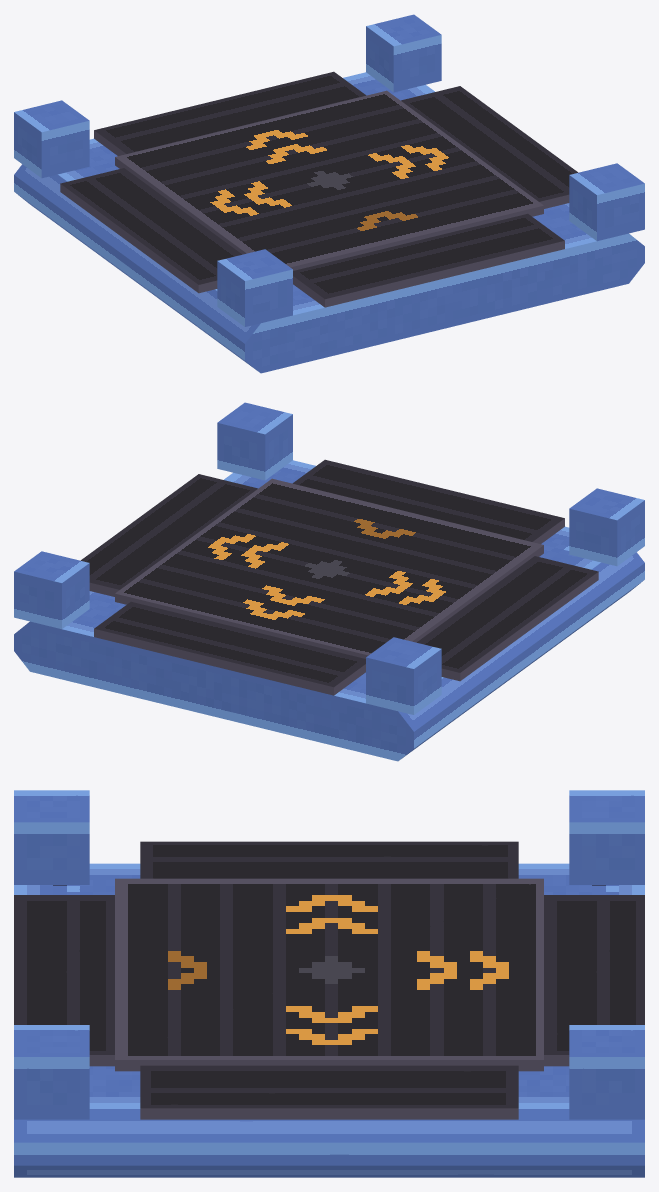
The model's file is belt_split.glb.
3 views of the same model, one above another, from view 1: azimuth 30°, elevation 25°; view 2: azimuth 150°, elevation 25°; view 3: azimuth 270°, elevation 25° (orthographic). The views are drawn at different scales.
Parts seen in each view (by area): view 1: belt_split_body; view 2: belt_split_body; view 3: belt_split_body.
Part boxes in pixels (x1=…): belt_split_body: x1=14, y1=14, x2=644, y2=373; belt_split_body: x1=14, y1=402, x2=644, y2=761; belt_split_body: x1=14, y1=790, x2=644, y2=1177.
Size of the model in its own units: 1 by 0.29 by 1.
1 material, 1 textured.
